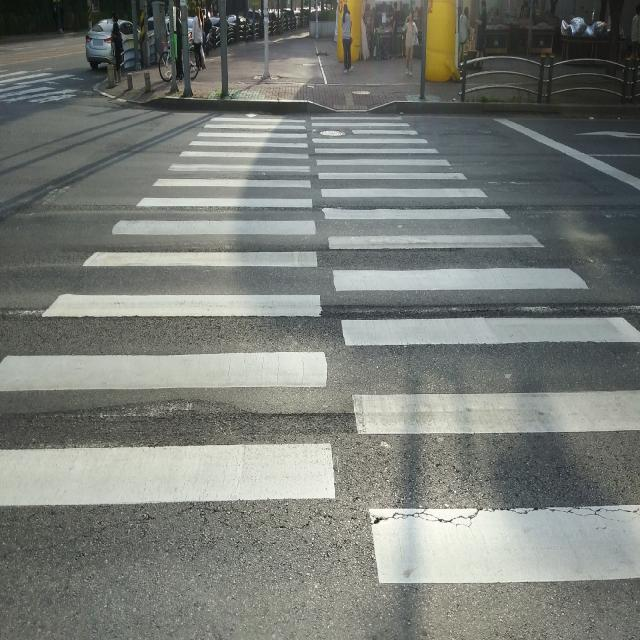횡단보도: (0, 109, 639, 589)
